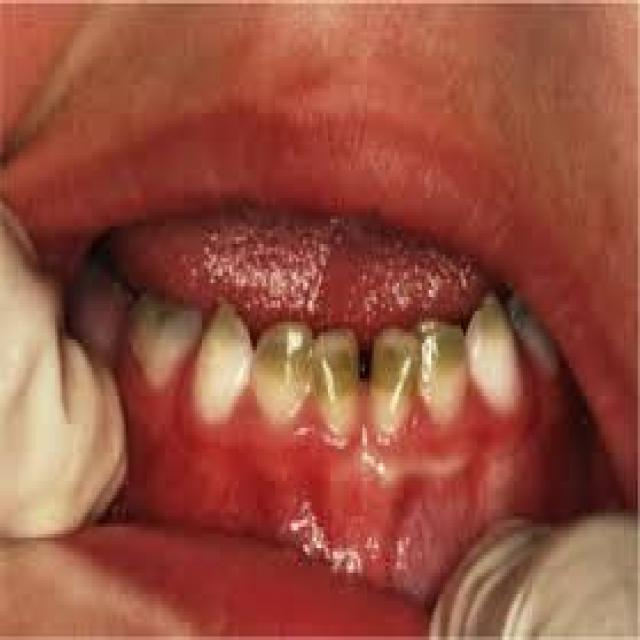Tooth Discoloration: (252, 318, 472, 407), (469, 288, 510, 338)
